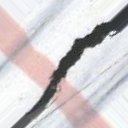crackTip: (10, 1, 127, 128)
